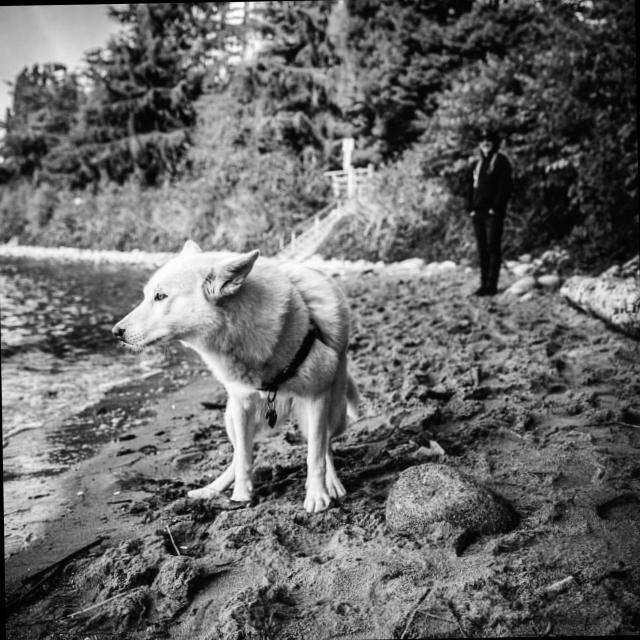squatting: (102, 231, 378, 519)
